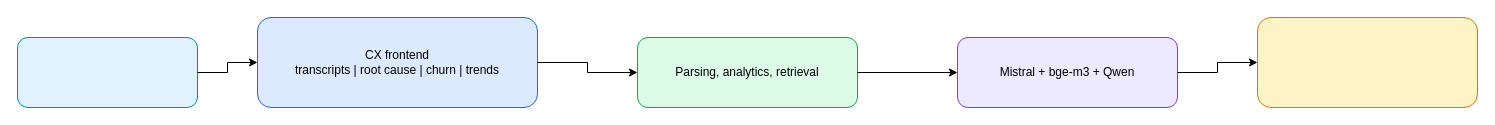
Image size: 1495x125. Some labels were removed from this diagram. Here are the shapes that lost their labels. From the top down, the centre of each, then its label:
At pixel 107 72: "Transcripts and notes".
At pixel 1367 62: "CX summaries root-cause narratives retention outputs".
